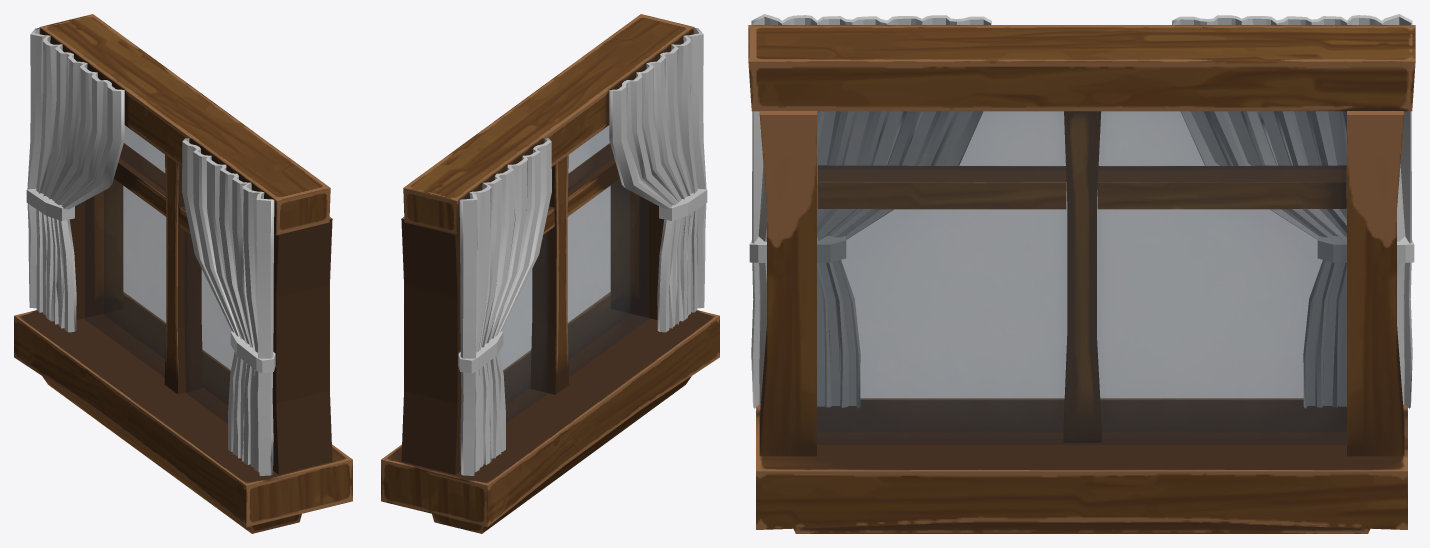
Rendered from SM_Window.fbx.
3 renders of one model, left to right at view 1: azimuth 30°, elevation 25°; view 2: azimuth 150°, elevation 25°; view 3: azimuth 270°, elevation 25°, orthographic. The views are drawn at different scales.
Visible parts, largest first — view 1: Curtains_low, WindowDown_low, WindowSide_low, WindowGlass_low, WindowUp_low, WindowInVer_low, WindowInHor1_low, WindowDown1_low, CurtainBand_low; view 2: Curtains_low, WindowDown_low, WindowGlass_low, WindowSide_low, WindowUp_low, WindowInVer_low, WindowInHor_low, WindowDown1_low, CurtainBand_low; view 3: WindowGlass_low, WindowDown_low, WindowUp_low, Curtains_low, WindowSide_low, WindowInHor1_low, WindowInHor_low, WindowInVer_low, WindowDown1_low, CurtainBand_low.
Boxes of the visible parts, box(x1,y1,x2,y2) form: Curtains_low: box(27, 28, 274, 475); WindowDown_low: box(14, 292, 352, 527); WindowSide_low: box(69, 179, 332, 474); WindowGlass_low: box(84, 125, 234, 423); WindowUp_low: box(39, 14, 330, 235); WindowInVer_low: box(164, 155, 202, 394); WindowInHor1_low: box(114, 143, 166, 216); WindowDown1_low: box(42, 376, 301, 533); CurtainBand_low: box(26, 188, 275, 373); Curtains_low: box(459, 28, 706, 475); WindowDown_low: box(381, 292, 719, 527); WindowGlass_low: box(499, 125, 649, 423); WindowSide_low: box(401, 179, 664, 474); WindowUp_low: box(403, 14, 694, 235); WindowInVer_low: box(530, 155, 568, 394); WindowInHor_low: box(567, 143, 619, 216); WindowDown1_low: box(432, 376, 691, 533); CurtainBand_low: box(458, 188, 707, 373); WindowGlass_low: box(817, 111, 1346, 444); WindowDown_low: box(756, 398, 1407, 529); WindowUp_low: box(748, 25, 1415, 111); Curtains_low: box(751, 14, 1412, 408); WindowSide_low: box(759, 111, 1404, 456); WindowInHor1_low: box(1097, 165, 1346, 209); WindowInHor_low: box(818, 165, 1066, 209); WindowInVer_low: box(1063, 111, 1101, 442); WindowDown1_low: box(793, 522, 1370, 533); CurtainBand_low: box(749, 236, 1414, 262).
Bounding box in the file's own units: 1.13 × 3.49 × 4.36.
